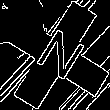N_SW: (25, 23, 85, 87)
